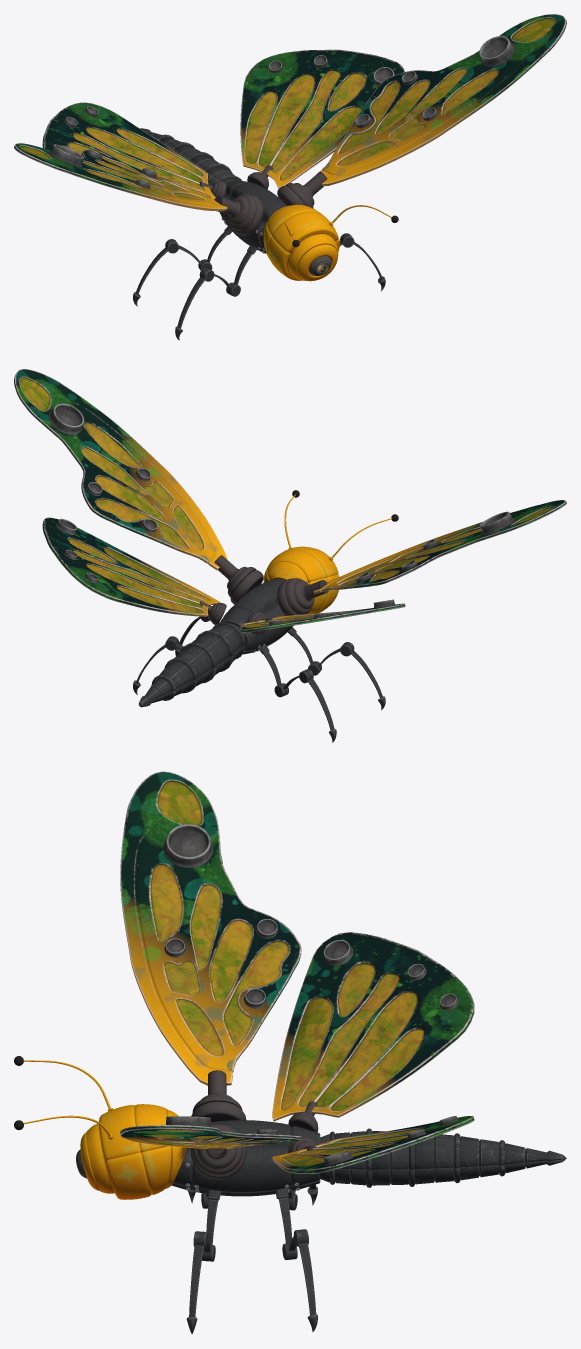
The model's file is butterfly.glb.
3 views of the same model, one above another, from view 1: azimuth 30°, elevation 25°; view 2: azimuth 150°, elevation 25°; view 3: azimuth 270°, elevation 25° (orthographic). The views are drawn at different scales.
Parts seen in each view (by area): view 1: io_io_Object001, io1_io_Plane002, io_io_butterfly_v01__Sphere003, Object004, io_io_pCylinder2, io1_Cylinder002, io1_Cylinder001, Object002, io1_io_butterfly_v01__Cylinder061, Object003; view 2: io1_io_Plane002, io_io_Object001, io1_Cylinder001, Object004, io_io_butterfly_v01__Sphere003, io1_Cylinder002, io_io_pCylinder2, Object003, Object002, io1_io_butterfly_v01__Cylinder061; view 3: io1_io_Plane002, io_io_Object001, io1_Cylinder001, io_io_butterfly_v01__Sphere003, Object004, io1_Cylinder002, io_io_pCylinder2, Object003, Object002, io1_io_butterfly_v01__Cylinder061.
Boxes of the visible parts, bbox=[...] form: io_io_Object001: bbox=[42, 49, 404, 199]; io1_io_Plane002: bbox=[14, 14, 566, 211]; io_io_butterfly_v01__Sphere003: bbox=[263, 204, 391, 281]; Object004: bbox=[48, 36, 514, 188]; io_io_pCylinder2: bbox=[199, 165, 327, 231]; io1_Cylinder002: bbox=[219, 180, 286, 253]; io1_Cylinder001: bbox=[140, 128, 241, 211]; Object002: bbox=[175, 233, 385, 340]; io1_io_butterfly_v01__Cylinder061: bbox=[218, 173, 305, 235]; Object003: bbox=[133, 226, 232, 306]; io1_io_Plane002: bbox=[14, 369, 566, 594]; io_io_Object001: bbox=[42, 517, 405, 632]; io1_Cylinder001: bbox=[138, 622, 245, 707]; Object004: bbox=[48, 403, 514, 625]; io_io_butterfly_v01__Sphere003: bbox=[263, 494, 392, 613]; io1_Cylinder002: bbox=[220, 578, 292, 654]; io_io_pCylinder2: bbox=[199, 555, 328, 633]; Object003: bbox=[133, 636, 336, 742]; Object002: bbox=[175, 613, 385, 710]; io1_io_butterfly_v01__Cylinder061: bbox=[212, 570, 307, 634]; io1_io_Plane002: bbox=[120, 771, 301, 1148]; io_io_Object001: bbox=[272, 932, 474, 1173]; io1_Cylinder001: bbox=[320, 1128, 566, 1187]; io_io_butterfly_v01__Sphere003: bbox=[23, 1060, 186, 1199]; Object004: bbox=[163, 824, 458, 1165]; io1_Cylinder002: bbox=[171, 1120, 320, 1196]; io_io_pCylinder2: bbox=[192, 1070, 317, 1175]; Object003: bbox=[275, 1184, 317, 1331]; Object002: bbox=[186, 1189, 221, 1333]; io1_io_butterfly_v01__Cylinder061: bbox=[191, 1101, 318, 1179].
Size of the model in its own units: 27.74 by 11.68 by 18.25.
Materials: 1 (1 with a texture image).
